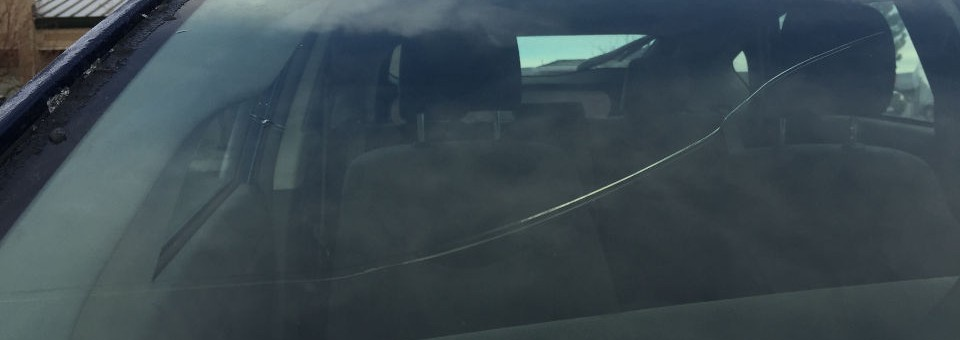scratch: (452, 147, 786, 236)
